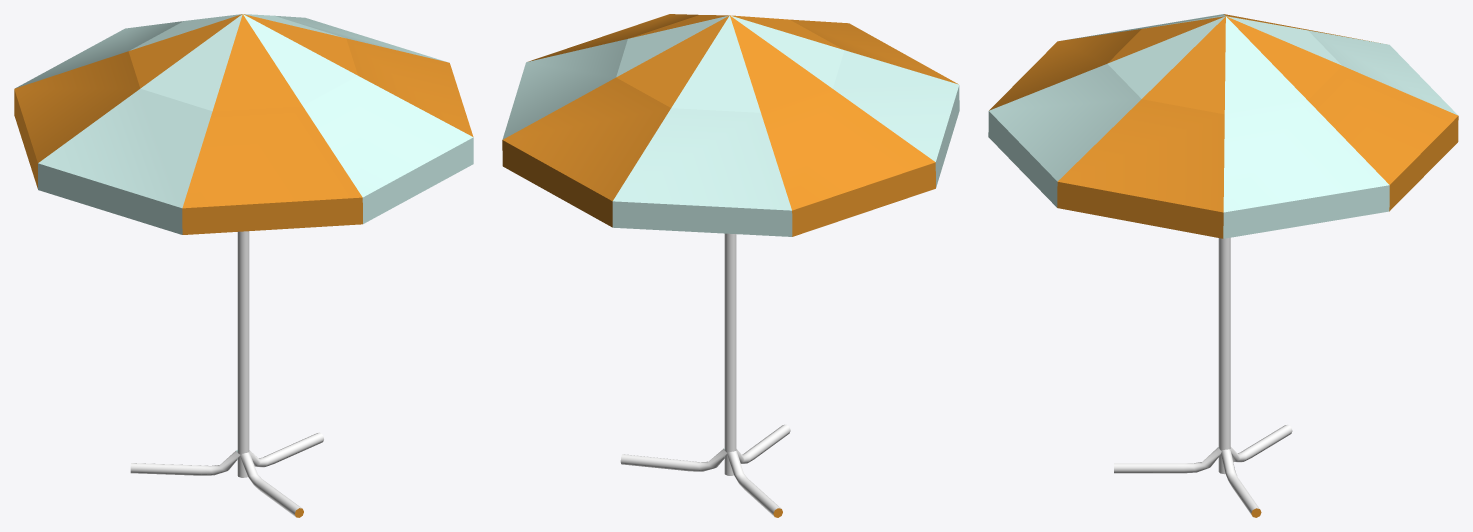
File: Umbrella_whith_color.FBX
3 views of the same model, side by side, from view 1: azimuth 30°, elevation 25°; view 2: azimuth 150°, elevation 25°; view 3: azimuth 270°, elevation 25° (orthographic).
Visible parts, largest first — view 1: Cone, Cylinder001, Cylinder004, Cylinder002, Cylinder003; view 2: Cone, Cylinder001, Cylinder003, Cylinder004, Cylinder002; view 3: Cone, Cylinder001, Cylinder002, Cylinder003, Cylinder004.
Boxes of the visible parts, x1,y1,x2,y2 form: Cone: [14, 14, 473, 234]; Cylinder001: [237, 231, 249, 477]; Cylinder004: [130, 450, 240, 475]; Cylinder002: [240, 452, 303, 517]; Cylinder003: [249, 432, 323, 467]; Cone: [502, 14, 959, 236]; Cylinder001: [724, 233, 736, 475]; Cylinder003: [620, 448, 727, 471]; Cylinder004: [727, 451, 782, 517]; Cylinder002: [736, 424, 790, 463]; Cone: [988, 14, 1458, 238]; Cylinder001: [1218, 237, 1230, 474]; Cylinder002: [1114, 447, 1221, 473]; Cylinder003: [1221, 449, 1261, 517]; Cylinder004: [1230, 424, 1292, 462].
Bounding box in the file's own units: 348 × 373 × 348.
